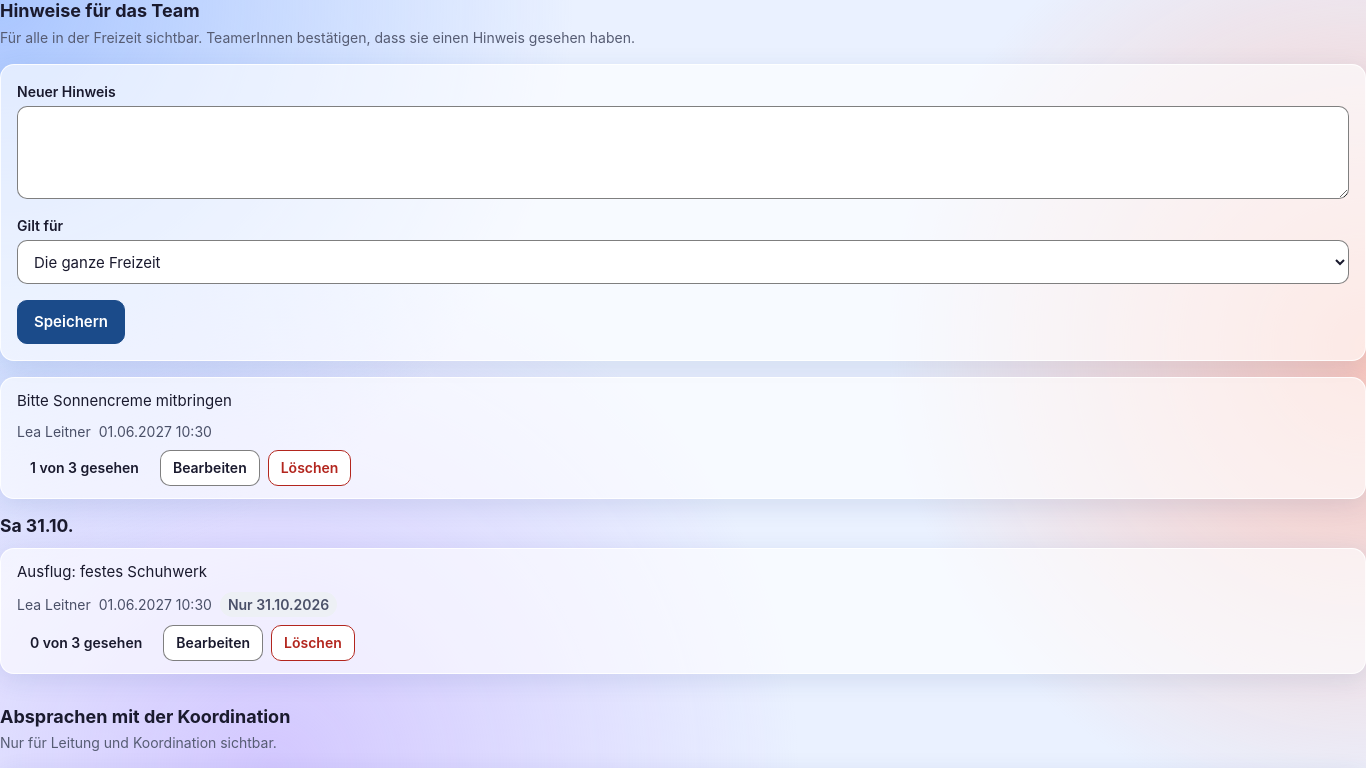
Scenario: Hinweise und Absprachen: Leitung › zeigt den Stand der Bestätigungen und wer noch fehlt (nur TeamerInnen zählen)
The width and height of the screenshot is (1366, 768).
Click the button "1 von 3 gesehen" at {"x": 84, "y": 468}, box [17,450,152,486]
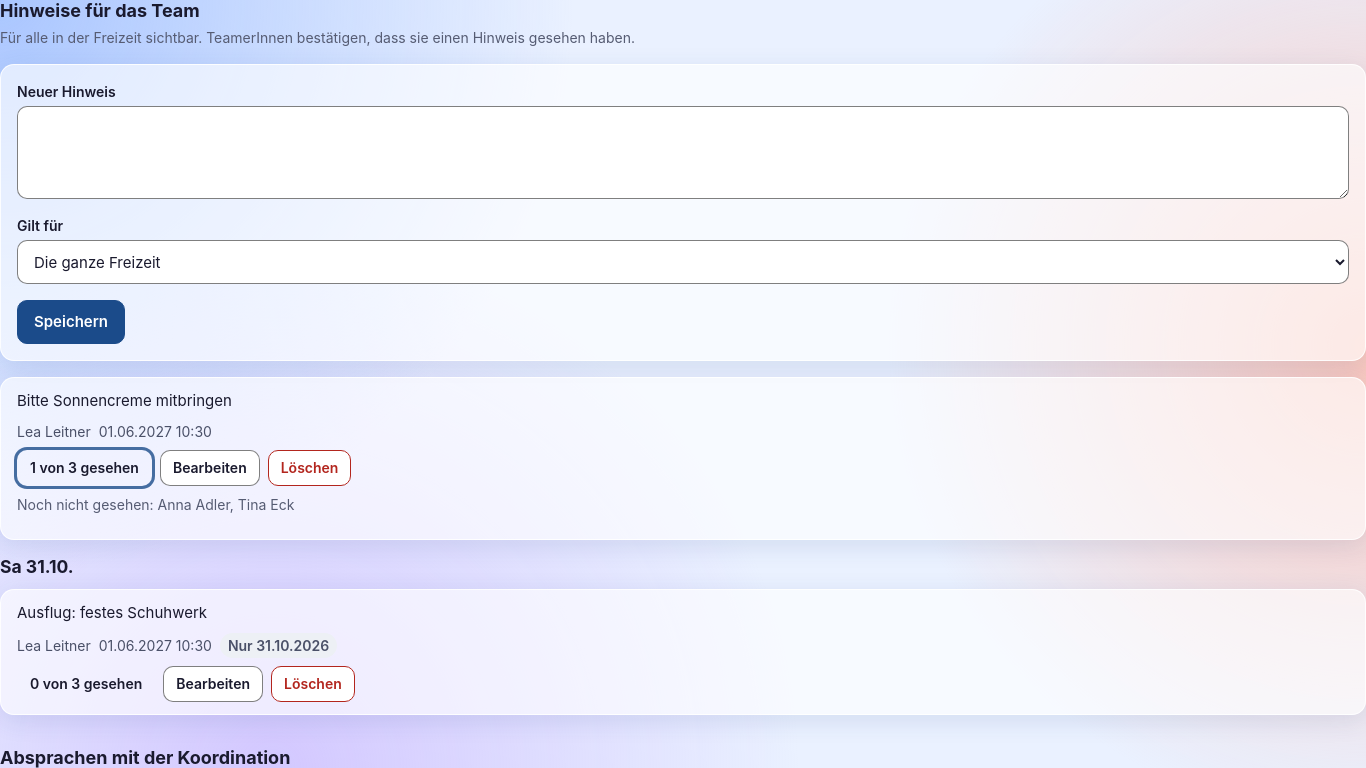
expect the text "Noch nicht gesehen: Anna Adler, Tina Eck" is shown: met, box [17,496,294,512]
